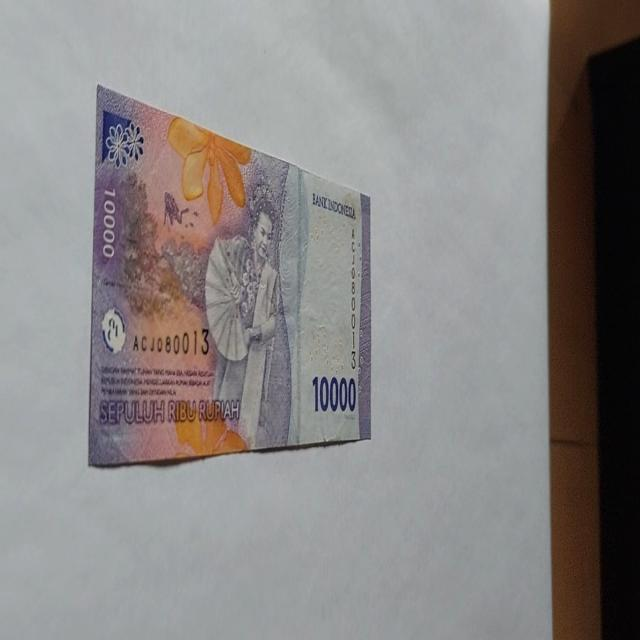sepuluh ribu rupiah: (87, 82, 372, 468)
